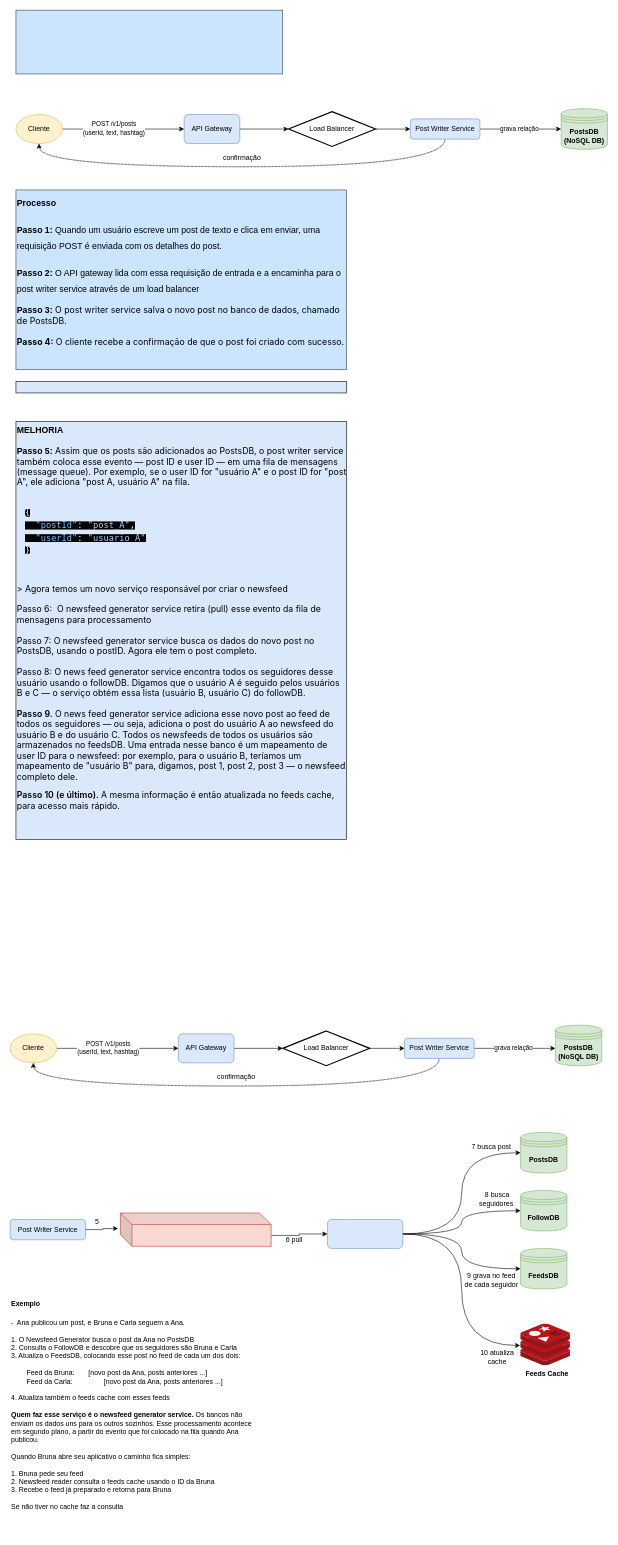
Image size: 618x1545. Some labels were removed from this diagram. The shapes that lost their labels are listed below. From the top down, each one's centre as x and y in pixels, then its label:
At (149,42): "Fluxo Usuário inicia o fluxo de criar um Post de texto".
At (181,387): "MELHORIA".
At (195,1229): "Message Queue {userId, postId}".
At (365,1233): "Newsfeed Generator Service".
